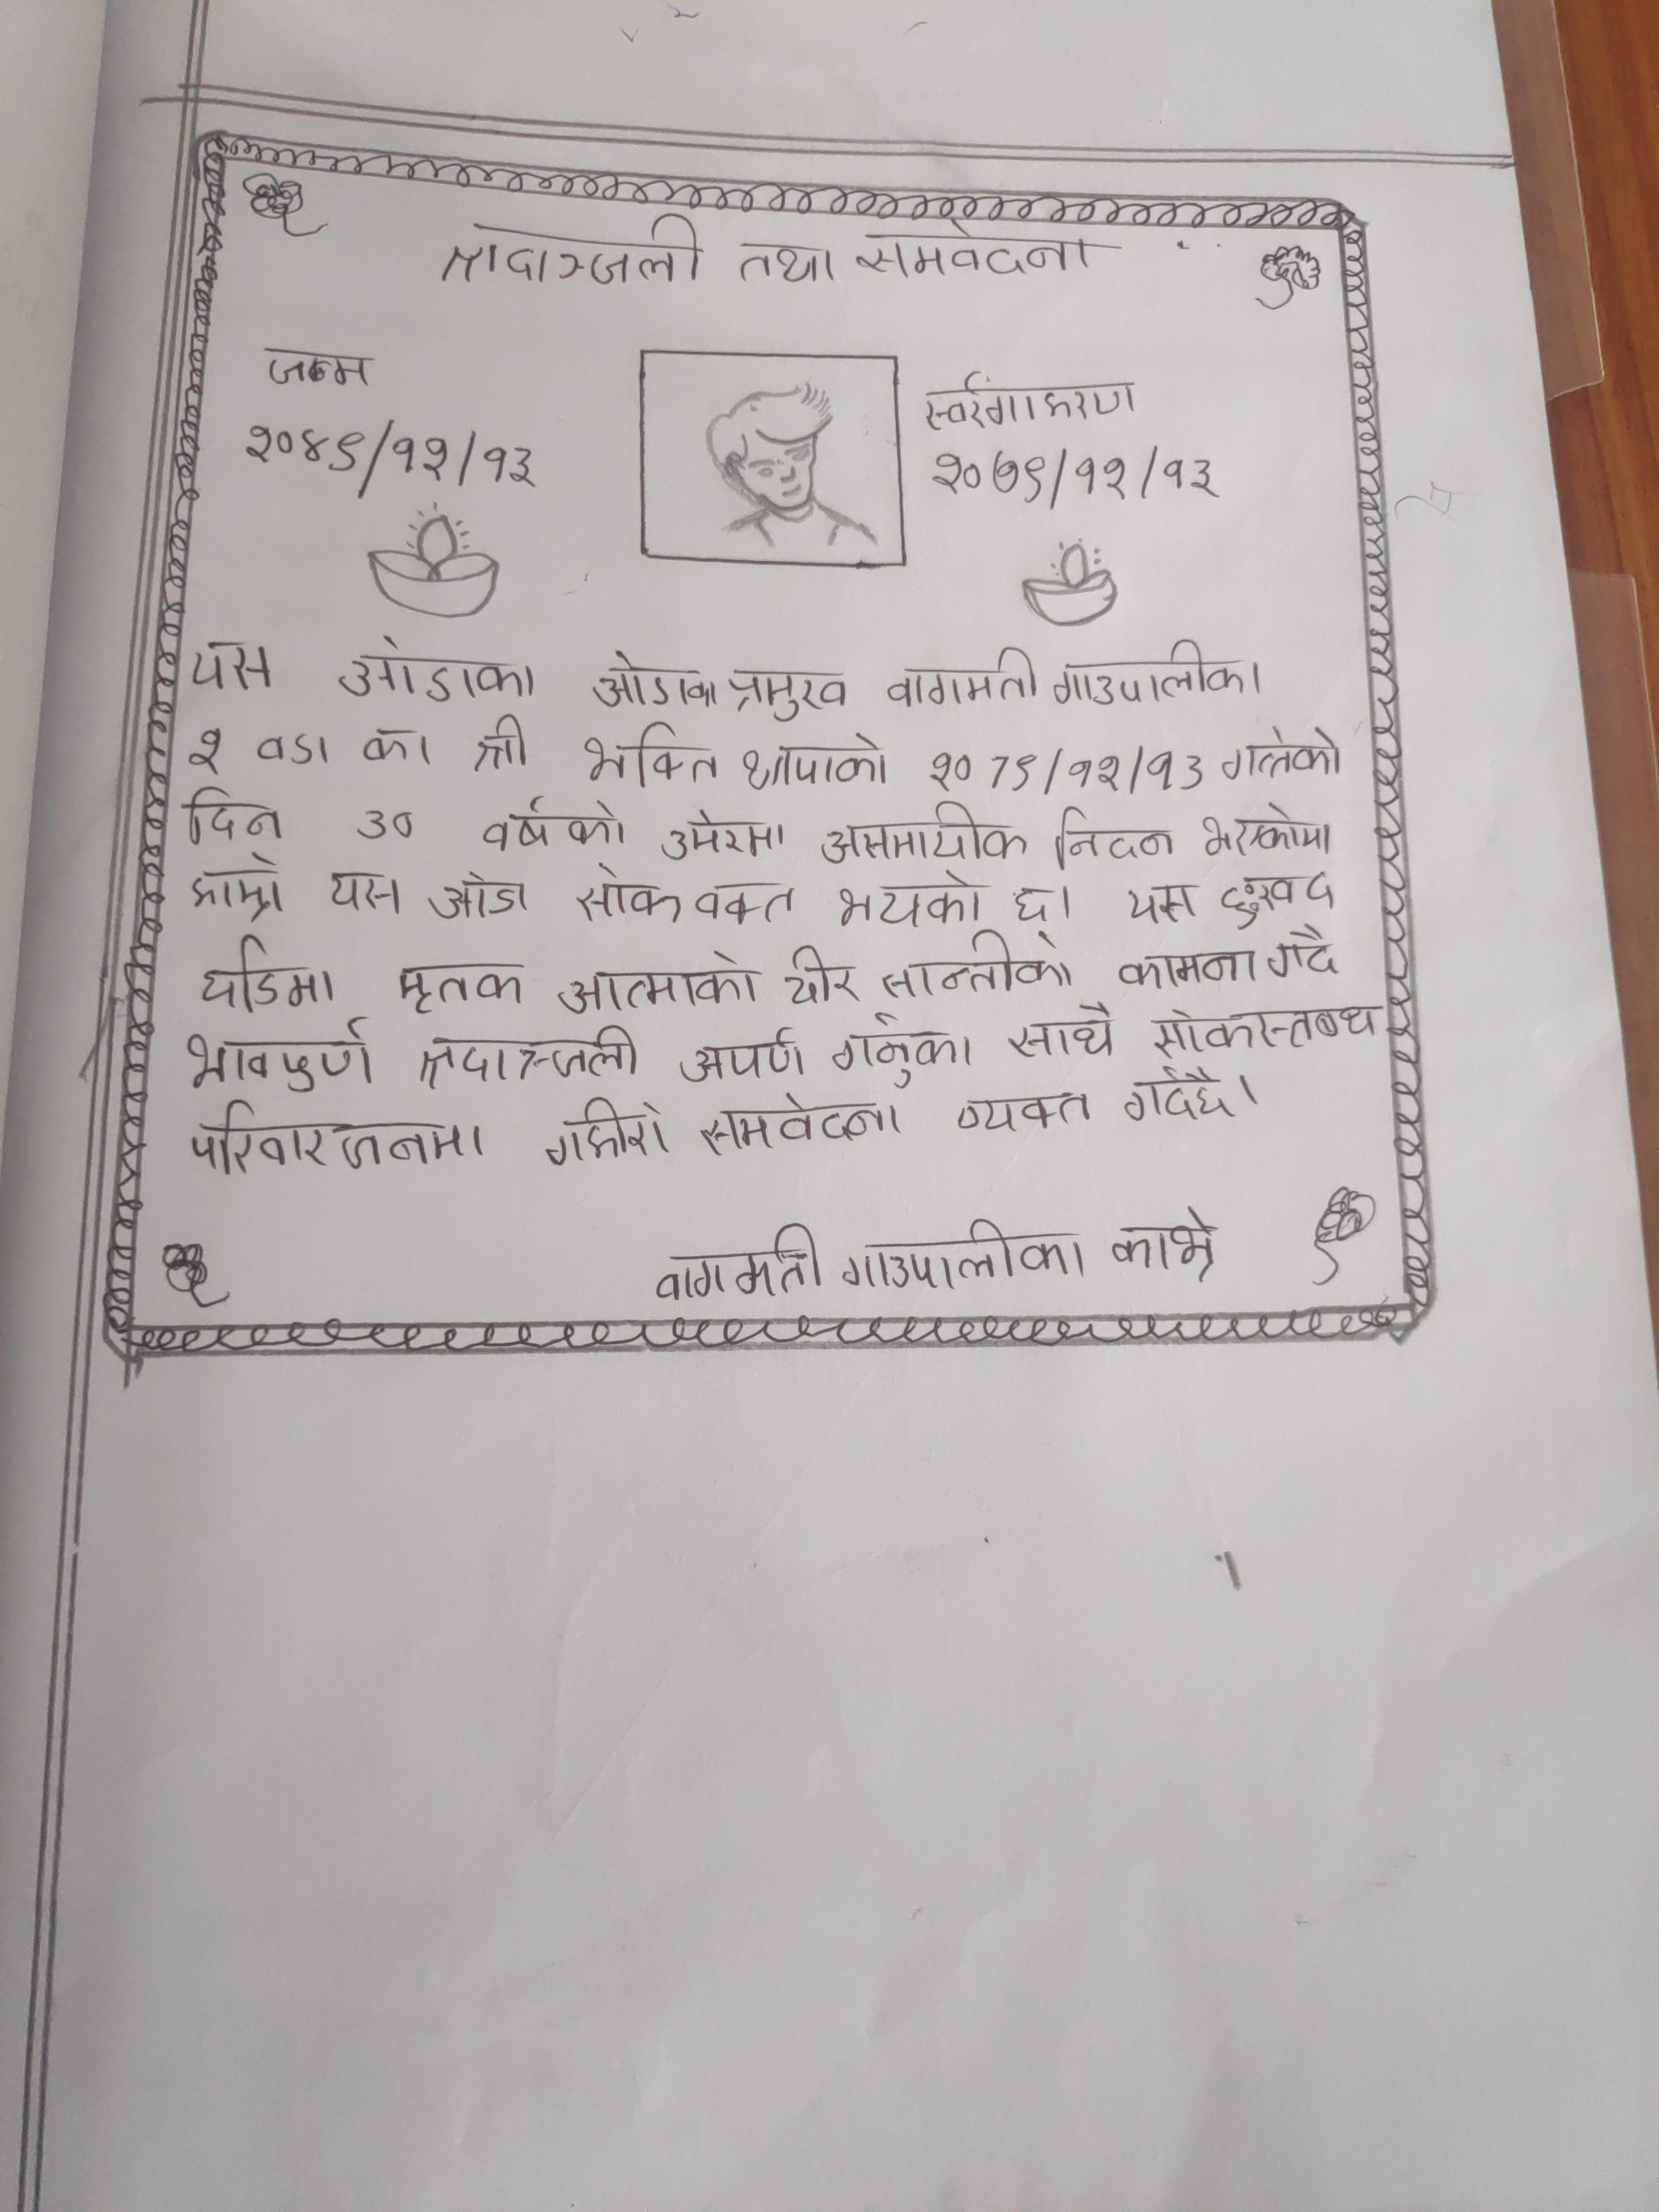text: (183, 1096, 491, 1176), (242, 420, 540, 496), (434, 209, 706, 291), (850, 212, 1114, 287), (835, 1216, 1096, 1289), (1044, 634, 1272, 707), (179, 1017, 383, 1097), (579, 857, 798, 930), (925, 448, 1215, 502), (556, 949, 769, 1022), (814, 798, 1030, 867), (650, 1224, 833, 1306), (1141, 998, 1387, 1057), (336, 637, 538, 709), (918, 745, 1206, 794), (418, 1028, 643, 1089), (877, 934, 1079, 1000), (920, 371, 1145, 430), (697, 1094, 903, 1155), (192, 932, 342, 1015), (826, 1008, 974, 1085), (884, 646, 1044, 711), (741, 728, 896, 794), (577, 721, 720, 789), (589, 643, 721, 716), (1053, 796, 1178, 869), (1105, 1209, 1229, 1282), (824, 873, 985, 928), (1002, 998, 1124, 1069), (477, 796, 631, 852), (1222, 721, 1354, 786), (1194, 801, 1335, 860), (390, 958, 528, 1017), (1107, 941, 1267, 991), (186, 846, 295, 921), (720, 660, 852, 721), (648, 806, 784, 866), (542, 1108, 676, 1165), (676, 1029, 805, 1089), (1216, 871, 1342, 930), (725, 230, 842, 291), (950, 1087, 1093, 1136), (1119, 1068, 1234, 1127), (251, 340, 378, 392), (178, 786, 284, 841), (185, 637, 282, 697), (429, 876, 533, 923), (781, 946, 859, 1008), (329, 859, 404, 920), (1115, 874, 1201, 927), (1267, 925, 1345, 981), (357, 721, 439, 770), (469, 712, 533, 773), (247, 730, 340, 770), (357, 803, 423, 845), (183, 726, 239, 773), (1007, 880, 1053, 932)
